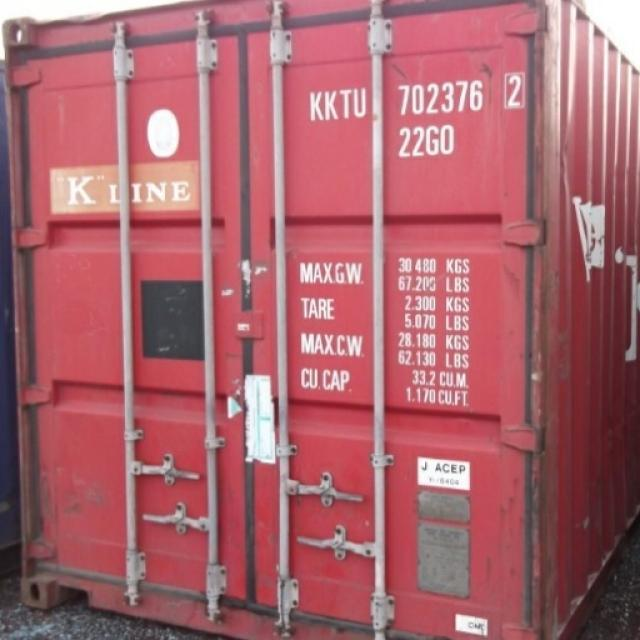ISO: (398, 124, 459, 159)
container_number: (311, 80, 518, 118)
